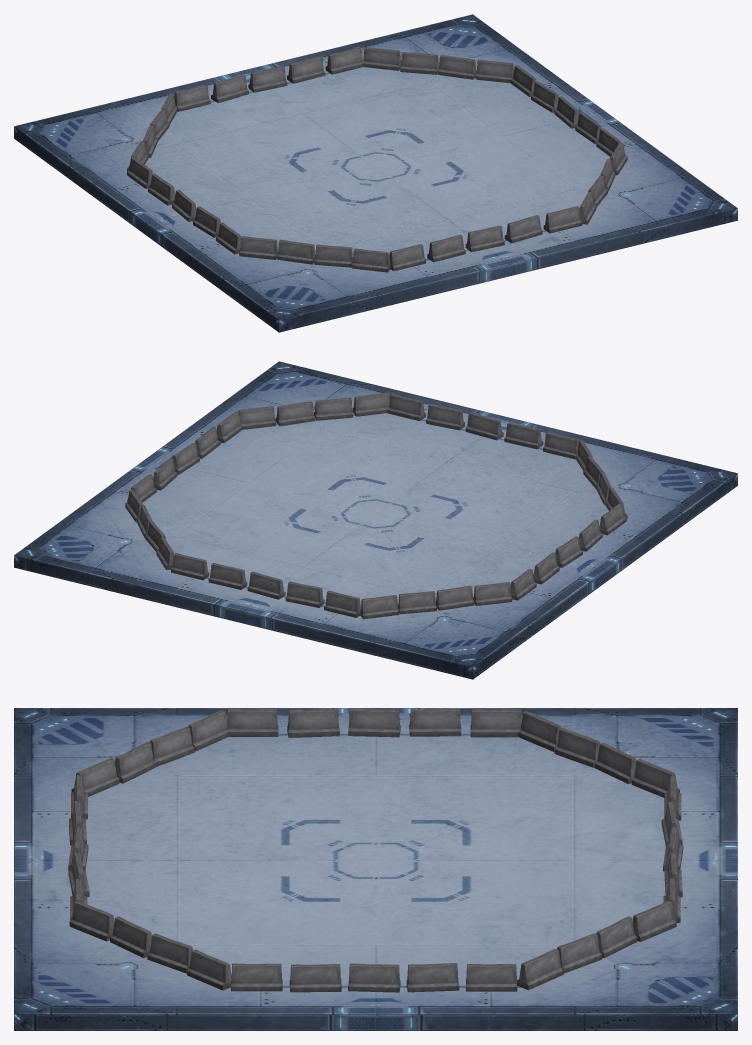
The model's file is PlatForm.fbx.
3 views of the same model, one above another, from view 1: azimuth 30°, elevation 25°; view 2: azimuth 150°, elevation 25°; view 3: azimuth 270°, elevation 25° (orthographic). The views are drawn at different scales.
Visible parts, largest first — view 1: Plane, beton_block.002; view 2: Plane, beton_block.002; view 3: Plane, beton_block.002.
Boxes of the visible parts, <box> form: Plane: <box>14,14,737,332</box>; beton_block.002: <box>127,47,627,272</box>; Plane: <box>14,361,737,679</box>; beton_block.002: <box>125,392,627,619</box>; Plane: <box>14,708,737,1030</box>; beton_block.002: <box>68,708,683,992</box>.
Size of the model in its own units: 2810 by 175 by 2810.
